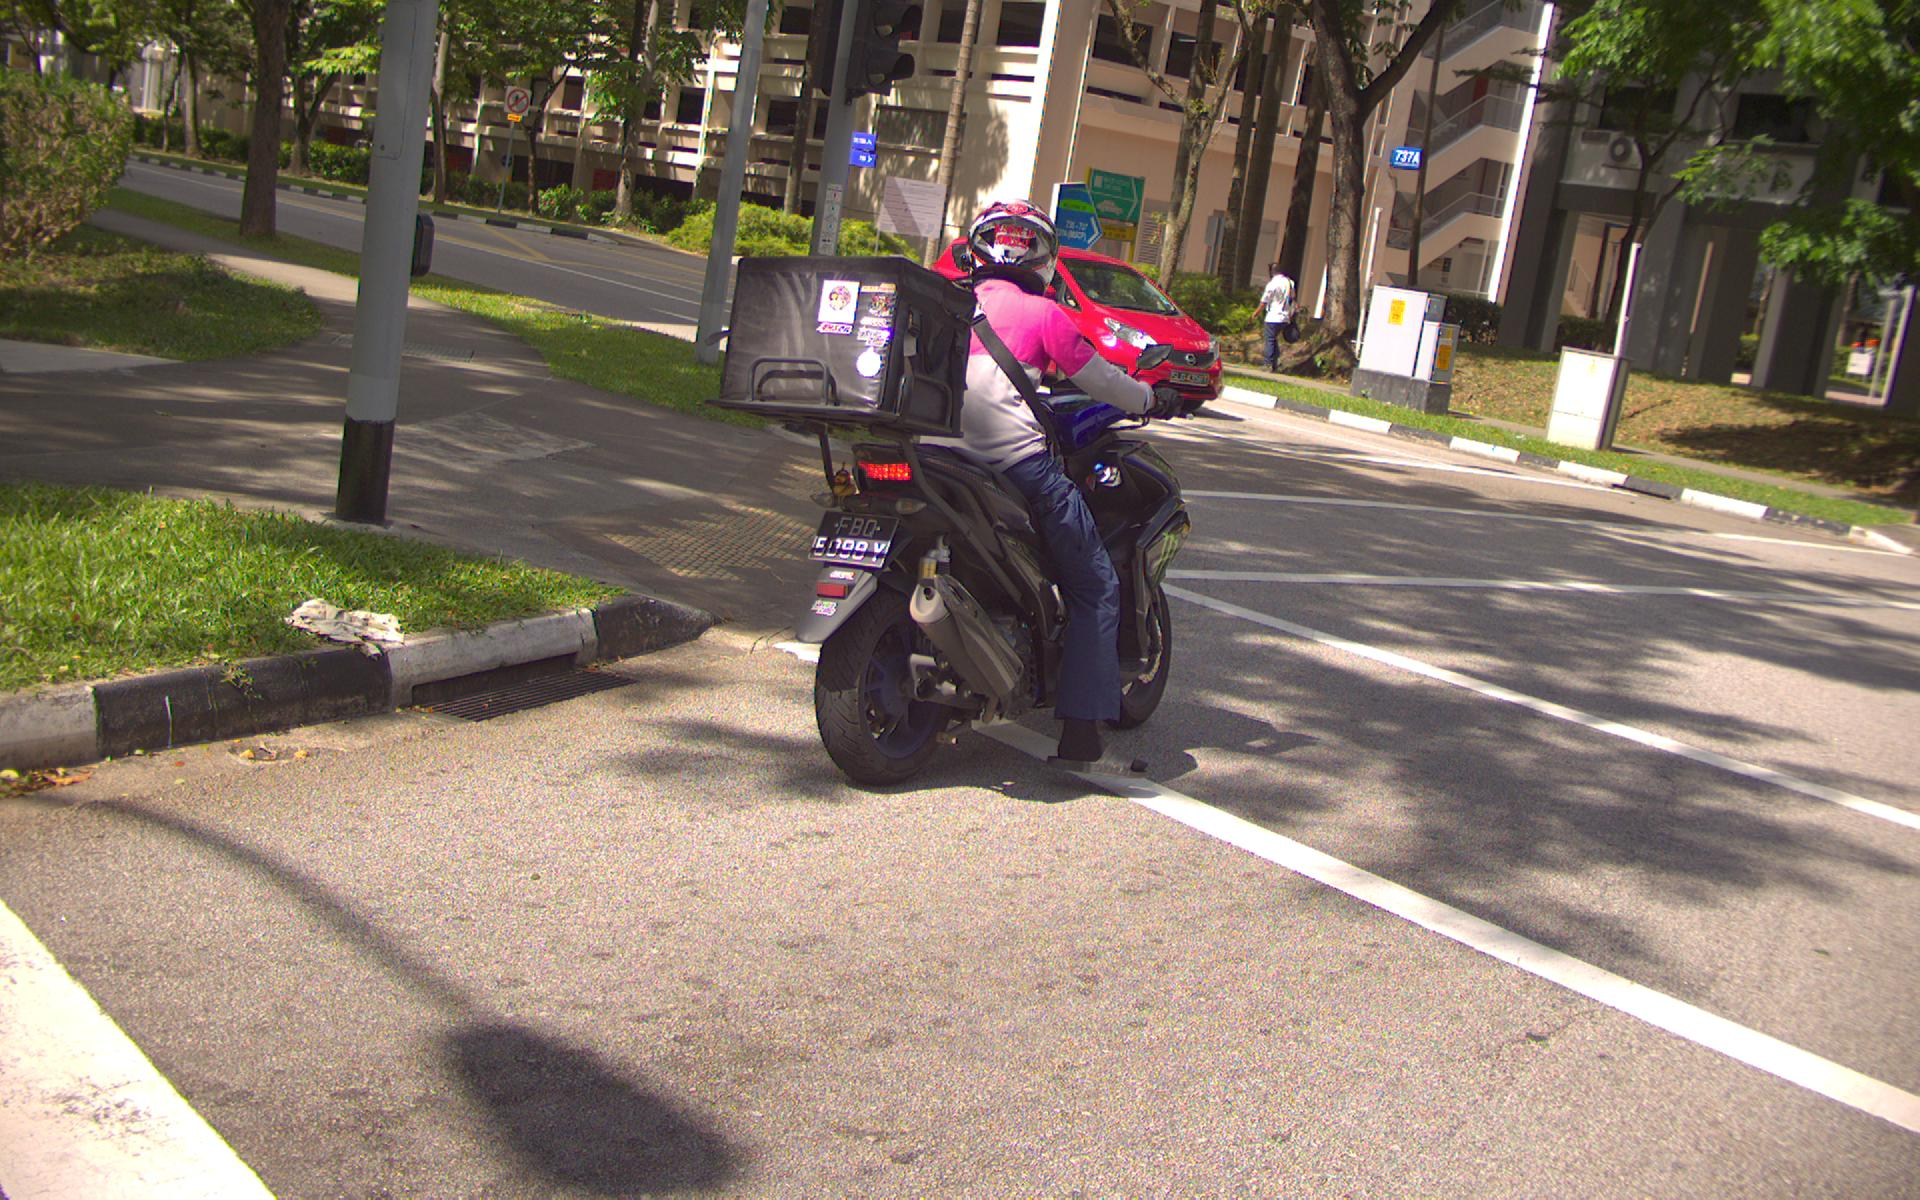curb_dic_low: (386, 621, 668, 731)
pathway_low: (8, 379, 343, 471), (426, 382, 623, 538), (677, 422, 818, 599)
road_turf_low: (8, 496, 234, 658), (84, 263, 239, 337), (545, 314, 643, 368)
